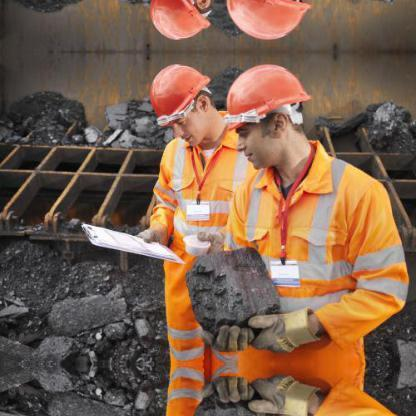helmet: (226, 57, 311, 132), (148, 60, 208, 125)
